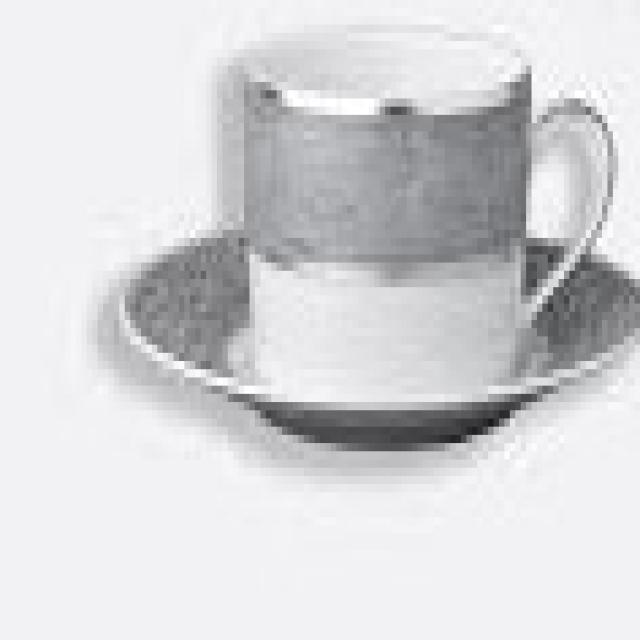taza: (225, 30, 616, 382)
